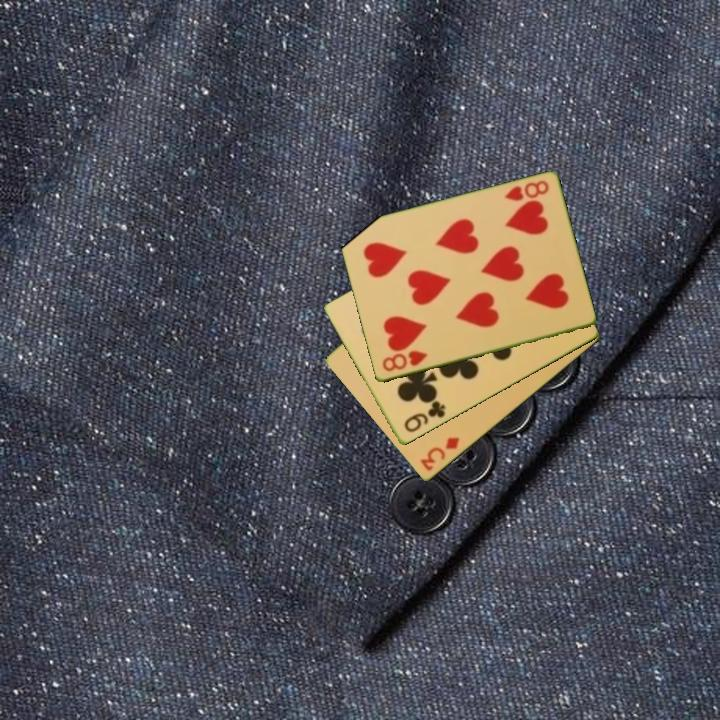3d: (416, 434, 462, 474)
8h: (378, 347, 430, 375), (501, 177, 552, 204)
9c: (400, 398, 449, 436)
